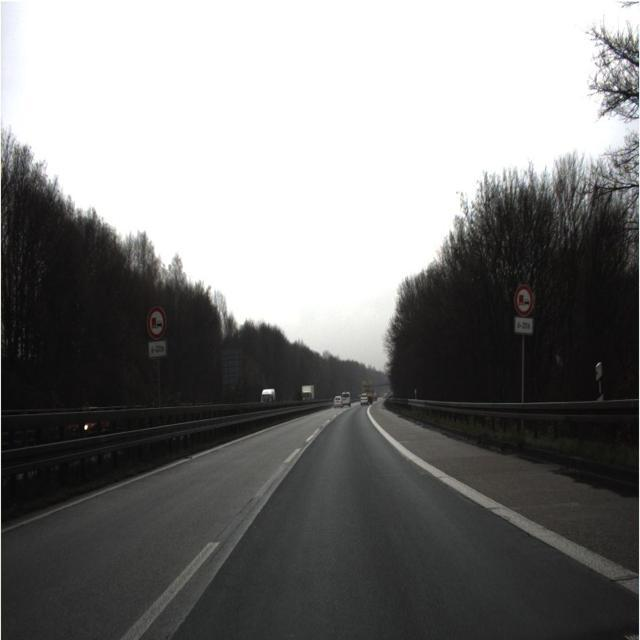forb_overtake_trucks: (147, 305, 167, 340), (514, 283, 534, 317)
